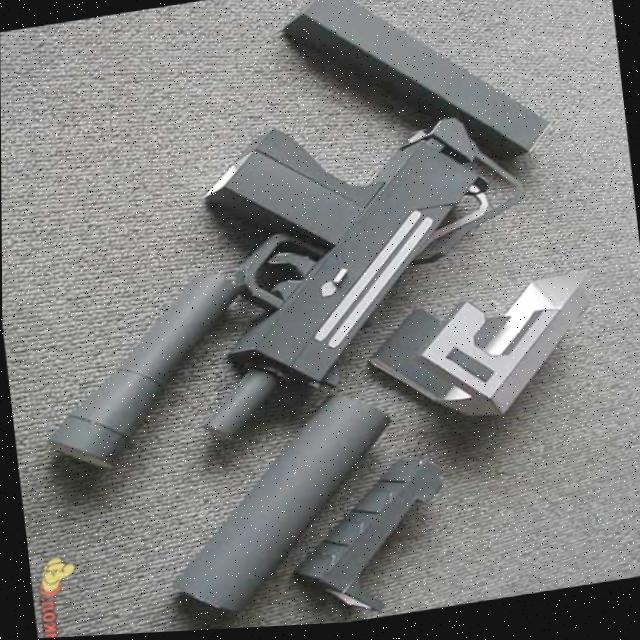firearm: (171, 93, 548, 443)
